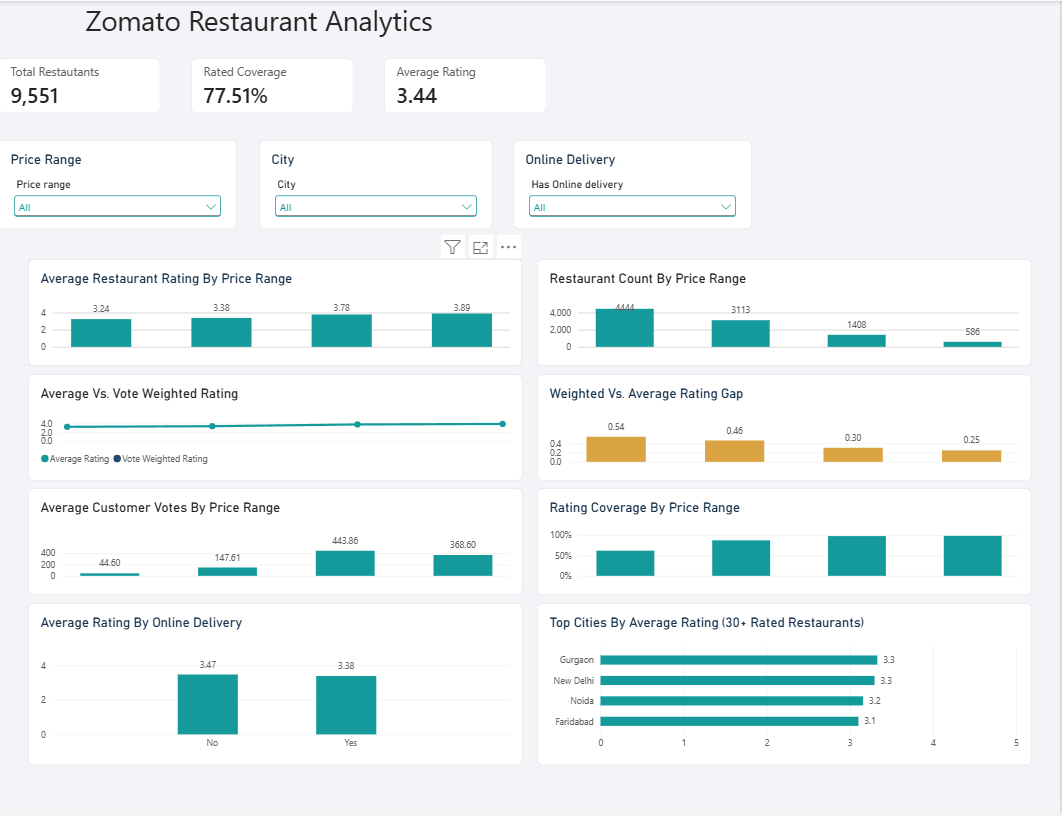

The page's visual inventory and layout, read from the dashboard file:
{"tool":"powerbi","page":{"name":"Page 1","canvas":[1440,1100],"ordinal":0},"visuals":[{"type":"cardVisual","fields":{"Data":["CountNonNull(zomato_analysis zomato_clean.Restaurant ID)"]},"box":[0,77.1,220,75],"z":0},{"type":"cardVisual","fields":{"Data":["zomato_analysis zomato_clean.Rated Coverage"]},"box":[262,77.1,220,75],"z":1000},{"type":"cardVisual","fields":{"Data":["zomato_analysis zomato_clean.Average Rating"]},"box":[522.7,77.1,220,75],"z":2000},{"type":"clusteredColumnChart","title":"Average  Restaurant Rating By Price Range","fields":{"Category":["zomato_analysis zomato_clean.Price range"],"Y":["zomato_analysis zomato_clean.Average Rating"]},"box":[40,350,670,145],"z":3000},{"type":"clusteredColumnChart","title":"Restaurant Count By Price Range","fields":{"Category":["zomato_analysis zomato_clean.Price range"],"Y":["CountNonNull(zomato_analysis zomato_clean.Restaurant ID)"]},"box":[730,350,670,145],"z":4000},{"type":"clusteredColumnChart","title":"Average Rating By Online Delivery","fields":{"Category":["zomato_analysis zomato_clean.Has Online delivery"],"Y":["zomato_analysis zomato_clean.Average Rating"]},"box":[40,815,670,220],"z":5000},{"type":"clusteredBarChart","title":"Top Cities By Average Rating (30+  Rated Restaurants) ","fields":{"Category":["zomato_analysis zomato_clean.City"],"Y":["zomato_analysis zomato_clean.Average Rating (min 30)"]},"box":[730.4,815,670,220],"z":6000},{"type":"clusteredColumnChart","title":"Rating Coverage By Price Range","fields":{"Category":["zomato_analysis zomato_clean.Price range"],"Y":["zomato_analysis zomato_clean.Rated Coverage"]},"box":[730,660,670,145],"z":7000},{"type":"slicer","title":"Price Range","fields":{"Values":["zomato_analysis zomato_clean.Price range"]},"box":[0,188.9,323.9,121.1],"z":8000},{"type":"slicer","title":"City","fields":{"Values":["zomato_analysis zomato_clean.City"]},"box":[353.8,188.9,316.6,121.1],"z":9000},{"type":"slicer","title":"Online Delivery","fields":{"Values":["zomato_analysis zomato_clean.Has Online delivery"]},"box":[698.3,188.9,323.9,121],"z":10000},{"type":"textbox","box":[37.9,0,631.7,105],"z":11000},{"type":"clusteredColumnChart","title":"Average Customer Votes By Price Range","fields":{"Category":["zomato_analysis zomato_clean.Price range"],"Y":["Avg(zomato_analysis zomato_clean.Votes)"]},"box":[40,660,670,145],"z":12000},{"type":"lineChart","title":"Average Vs. Vote Weighted Rating","fields":{"Category":["zomato_analysis zomato_clean.Price range"],"Y":["zomato_analysis zomato_clean.Average Rating"],"Y2":["zomato_analysis zomato_clean.Vote Weighted Rating"]},"box":[40,505,670,145],"z":13000},{"type":"clusteredColumnChart","title":"Weighted Vs. Average Rating Gap","fields":{"Category":["zomato_analysis zomato_clean.Price range"],"Y":["zomato_analysis zomato_clean.Rating Gap"]},"box":[730,505,670,145],"z":14000}]}

Visuals, with their boxes in screenshot pixels (x1, y1, x2, y2), scaled from the page's 1440x1100 canvas onto the 1062x816 screenshot:
cardVisual - CountNonNull(zomato_analysis zomato_clean.Restaurant ID): locate(0, 57, 162, 113)
cardVisual - zomato_analysis zomato_clean.Rated Coverage: locate(193, 57, 355, 113)
cardVisual - zomato_analysis zomato_clean.Average Rating: locate(385, 57, 548, 113)
"Average  Restaurant Rating By Price Range" clusteredColumnChart: locate(30, 260, 524, 367)
"Restaurant Count By Price Range" clusteredColumnChart: locate(538, 260, 1032, 367)
"Average Rating By Online Delivery" clusteredColumnChart: locate(30, 605, 524, 768)
"Top Cities By Average Rating (30+  Rated Restaurants) " clusteredBarChart: locate(539, 605, 1033, 768)
"Rating Coverage By Price Range" clusteredColumnChart: locate(538, 490, 1032, 597)
"Price Range" slicer: locate(0, 140, 239, 230)
"City" slicer: locate(261, 140, 494, 230)
"Online Delivery" slicer: locate(515, 140, 754, 230)
textbox: locate(28, 0, 494, 78)
"Average Customer Votes By Price Range" clusteredColumnChart: locate(30, 490, 524, 597)
"Average Vs. Vote Weighted Rating" lineChart: locate(30, 375, 524, 482)
"Weighted Vs. Average Rating Gap" clusteredColumnChart: locate(538, 375, 1032, 482)
